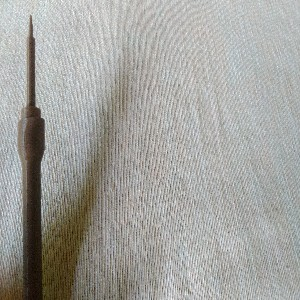solder: (16, 14, 46, 300)
